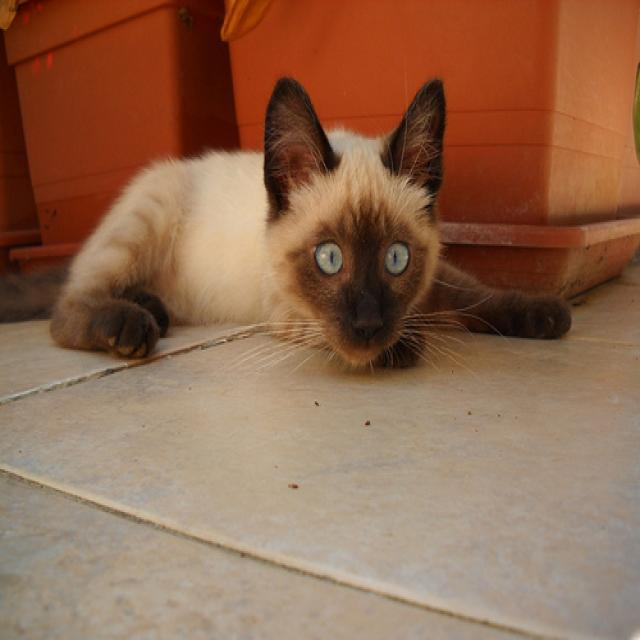Siamese: (261, 73, 444, 362)
